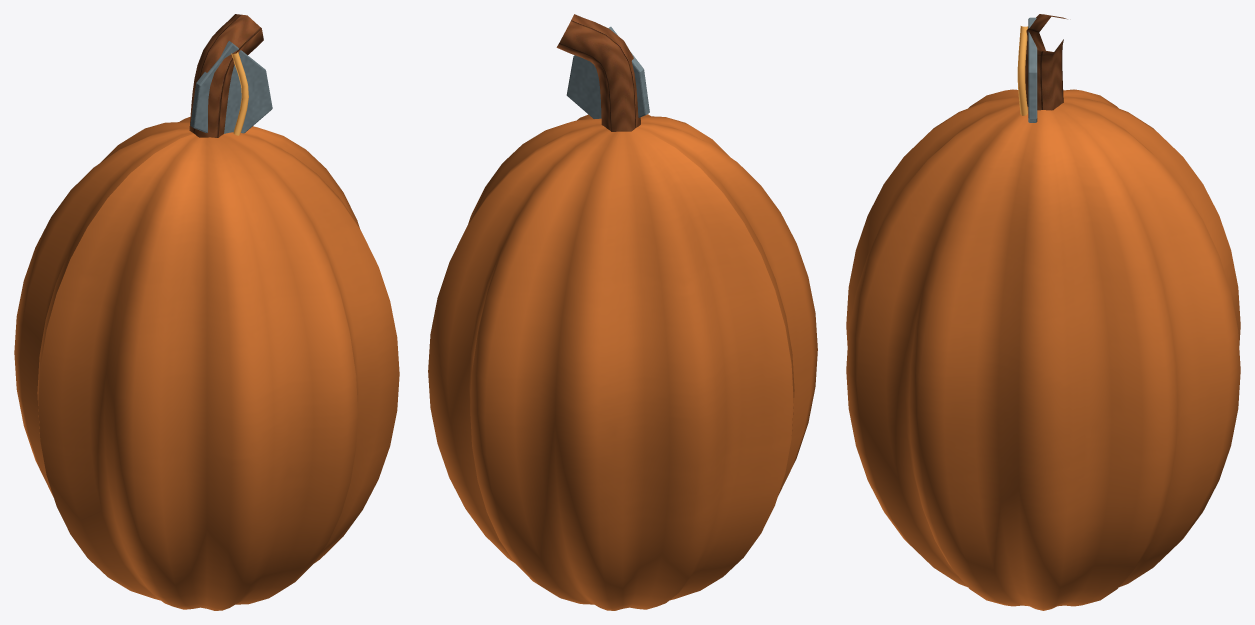
The model's file is hollowwick-halloween-tall-ribbed-pumpkin-7baab902__21596.glb.
The picture shows the model from 3 angles, left to right: view 1: azimuth 30°, elevation 25°; view 2: azimuth 150°, elevation 25°; view 3: azimuth 270°, elevation 25°; orthographic projection. The views are drawn at different scales.
Visible parts, largest first — view 1: tall-ribbed-pumpkin; view 2: tall-ribbed-pumpkin; view 3: tall-ribbed-pumpkin.
Part boxes in pixels (x1=…): tall-ribbed-pumpkin: x1=14, y1=14, x2=399, y2=610; tall-ribbed-pumpkin: x1=428, y1=14, x2=817, y2=610; tall-ribbed-pumpkin: x1=846, y1=14, x2=1240, y2=610.
Size of the model in its own units: 0.5425 by 0.8737 by 0.5185.
Materials: 4 (3 with a texture image).
